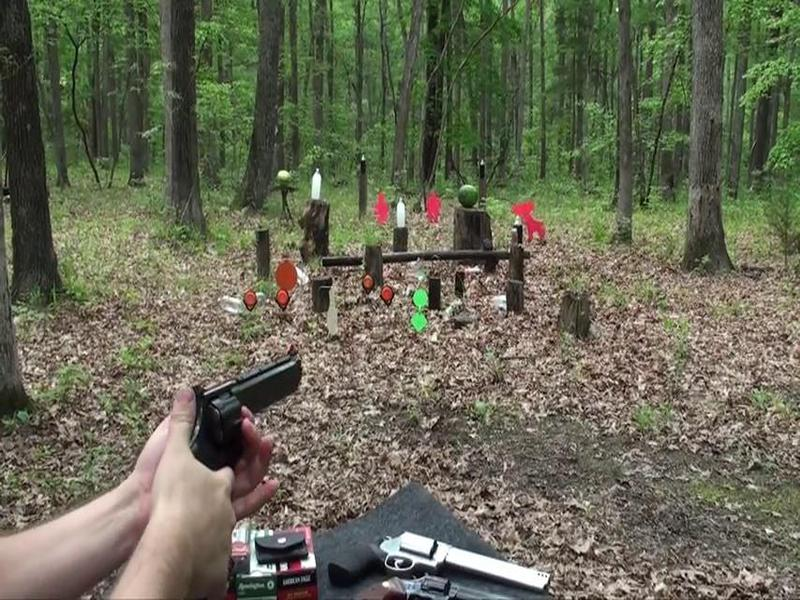Revolver: (168, 343, 319, 504)
